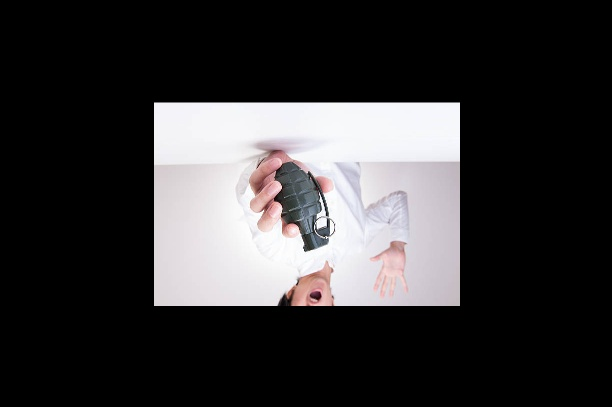e1: (271, 156, 337, 251)
